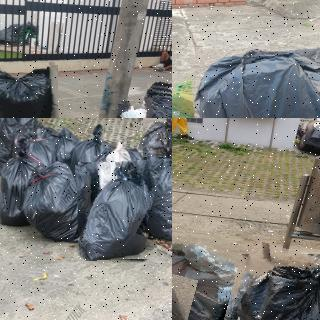Garbage: (192, 46, 320, 118), (77, 161, 156, 260), (224, 246, 320, 320), (172, 239, 243, 320), (21, 160, 85, 241), (132, 154, 172, 244), (0, 63, 59, 118), (70, 125, 112, 187), (0, 137, 29, 225), (140, 118, 172, 159), (140, 78, 172, 118), (0, 118, 36, 137), (116, 102, 153, 118)
